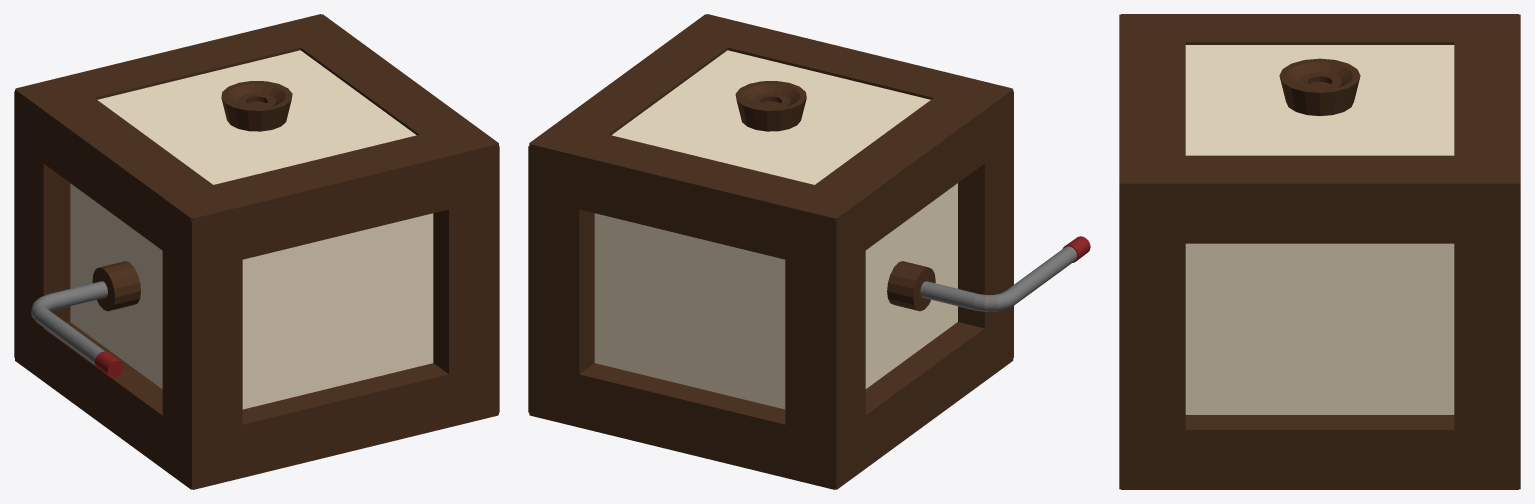
File: laser-table.fbx
3 views of the same model, side by side, from view 1: azimuth 30°, elevation 25°; view 2: azimuth 150°, elevation 25°; view 3: azimuth 270°, elevation 25° (orthographic). The views are drawn at different scales.
Visible parts, largest first — view 1: Cube.002, Cube.001, Cube, Cylinder, Cylinder.001; view 2: Cube.002, Cube.001, Cube, Cylinder, Cylinder.001; view 3: Cube.002, Cube.001, Cylinder.
Boxes of the visible parts, box(x1,y1,x2,y2) form: Cube.002: box(14, 14, 499, 489); Cube.001: box(70, 50, 433, 409); Cube: box(31, 281, 123, 377); Cylinder: box(221, 81, 292, 131); Cylinder.001: box(92, 261, 140, 311); Cube.002: box(528, 14, 1013, 489); Cube.001: box(594, 50, 957, 409); Cube: box(920, 236, 1090, 311); Cylinder: box(735, 81, 806, 131); Cylinder.001: box(887, 261, 935, 311); Cube.002: box(1119, 14, 1520, 489); Cube.001: box(1185, 45, 1454, 414); Cylinder: box(1279, 58, 1360, 115).
Size of the model in its own units: 1.53 by 1.1 by 1.21.
